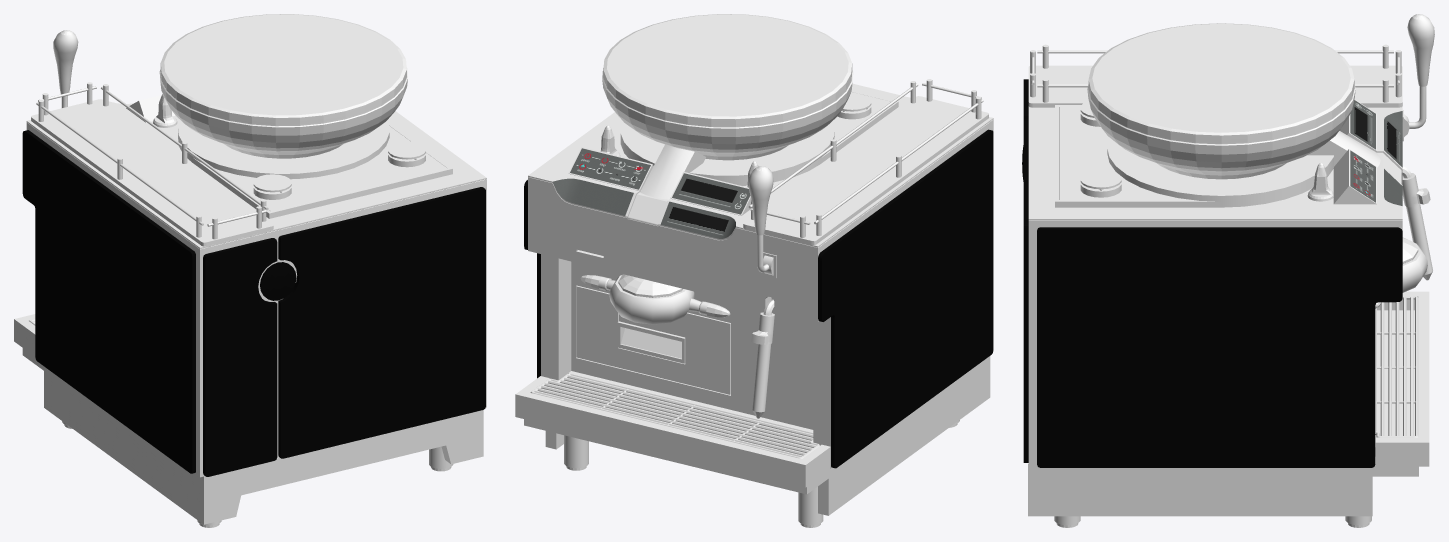
File: coffee_Machine.fbx
The picture shows the model from 3 angles, left to right: view 1: azimuth 30°, elevation 25°; view 2: azimuth 150°, elevation 25°; view 3: azimuth 270°, elevation 25°; orthographic projection. The views are drawn at different scales.
Parts seen in each view (by area): view 1: mastrena_r_, mastrena_r_.001; view 2: mastrena_r_, mastrena_r_.003, mastrena_r_.002, mastrena_r_.001; view 3: mastrena_r_, mastrena_r_.001, mastrena_r_.002, mastrena_r_.003.
Boxes of the visible parts, x1,y1,x2,y2 form: mastrena_r_: (14, 14, 486, 527); mastrena_r_.001: (53, 30, 78, 107); mastrena_r_: (515, 14, 993, 527); mastrena_r_.003: (581, 274, 730, 324); mastrena_r_.002: (751, 299, 774, 418); mastrena_r_.001: (748, 166, 773, 275); mastrena_r_: (1022, 23, 1429, 527); mastrena_r_.001: (1404, 14, 1434, 136); mastrena_r_.002: (1402, 166, 1432, 280); mastrena_r_.003: (1375, 237, 1427, 308).
Bounding box in the file's own units: 0.5296 × 0.6374 × 0.5962.
